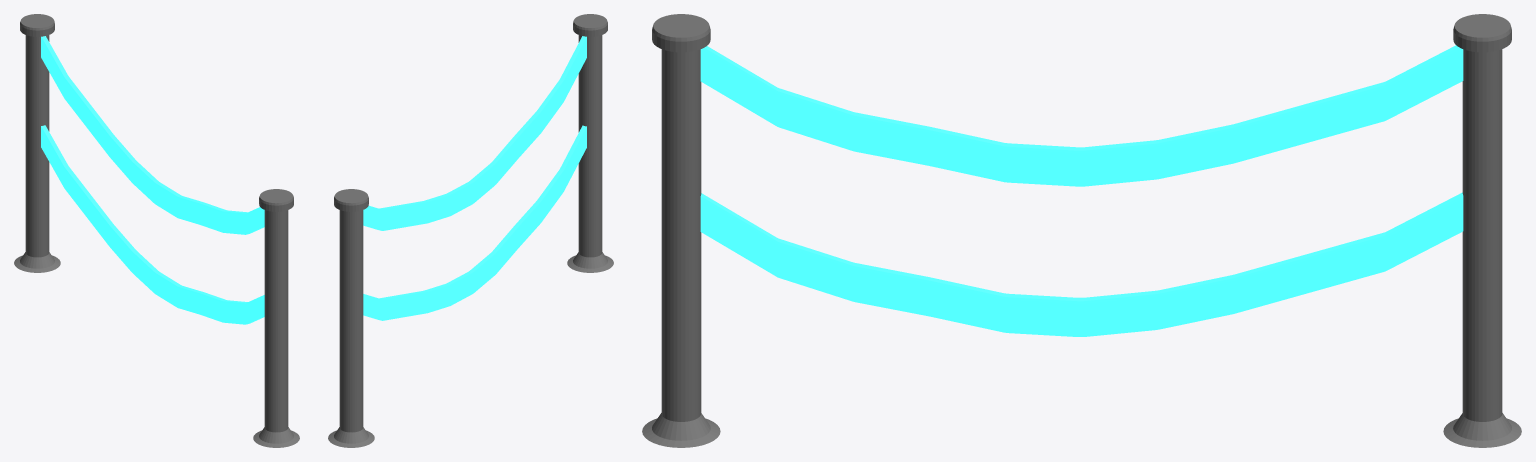
File: QueuePoles.fbx
3 views of the same model, side by side, from view 1: azimuth 30°, elevation 25°; view 2: azimuth 150°, elevation 25°; view 3: azimuth 270°, elevation 25° (orthographic). The views are drawn at different scales.
Parts seen in each view (by area): view 1: Pole, Pole2, Tape, TapeTop; view 2: Pole2, Pole, Tape, TapeTop; view 3: Tape, TapeTop, Pole, Pole2.
Boxes of the visible parts, <box> form: Pole: <box>253,189,299,447</box>; Pole2: <box>14,14,60,272</box>; Tape: <box>41,125,264,324</box>; TapeTop: <box>41,36,264,234</box>; Pole2: <box>328,189,374,447</box>; Pole: <box>567,14,613,272</box>; Tape: <box>363,125,586,320</box>; TapeTop: <box>363,36,586,230</box>; Tape: <box>700,192,1463,336</box>; TapeTop: <box>700,45,1463,186</box>; Pole: <box>642,14,720,447</box>; Pole2: <box>1443,14,1521,447</box>.
Bounding box in the file's own units: 396 × 2258 × 4439.
